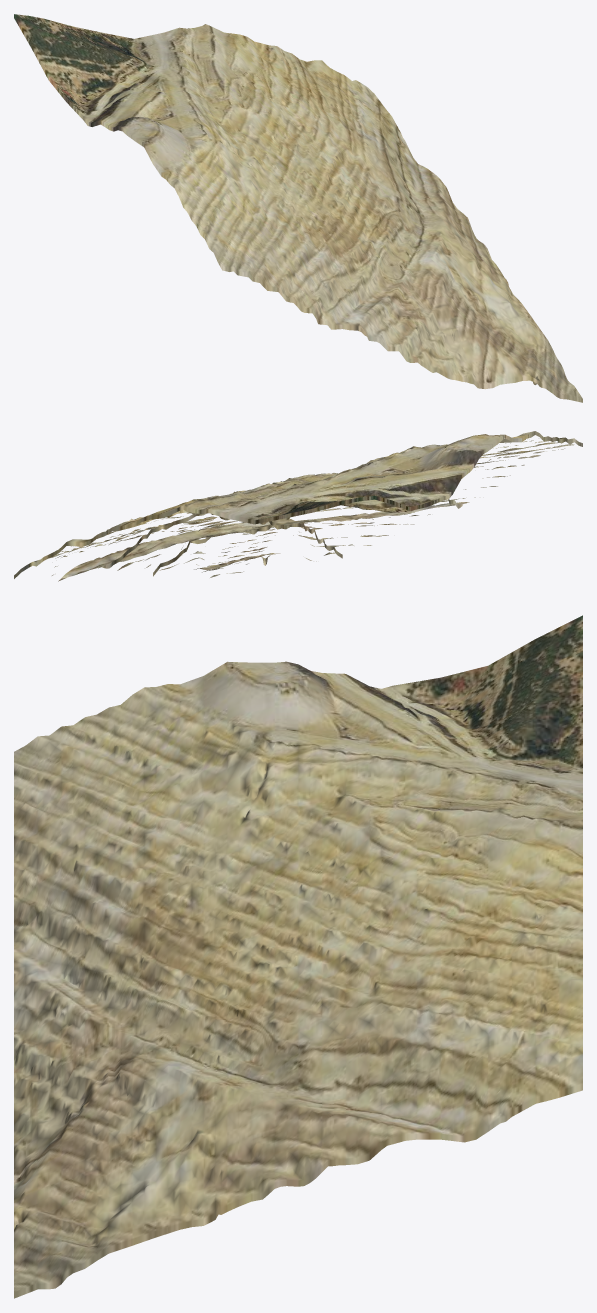
3 views of the same model, one above another, from view 1: azimuth 30°, elevation 25°; view 2: azimuth 150°, elevation 25°; view 3: azimuth 270°, elevation 25° (orthographic). The views are drawn at different scales.
Visible parts, largest first — view 1: l1-0-2; view 2: l1-0-2; view 3: l1-0-2.
Part boxes in pixels (x1=…): l1-0-2: x1=14, y1=14, x2=582, y2=402; l1-0-2: x1=14, y1=431, x2=582, y2=581; l1-0-2: x1=14, y1=615, x2=582, y2=1298.
Bounding box in the file's own units: 768 × 660 × 768.
1 material, 1 textured.
